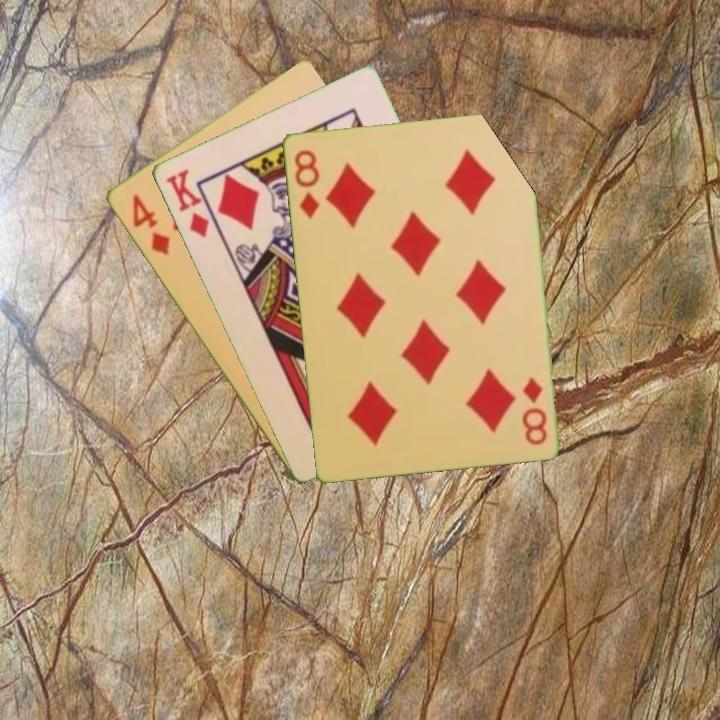4d: (128, 190, 172, 258)
8d: (290, 146, 322, 222), (518, 373, 550, 448)
Kd: (162, 165, 222, 241)
